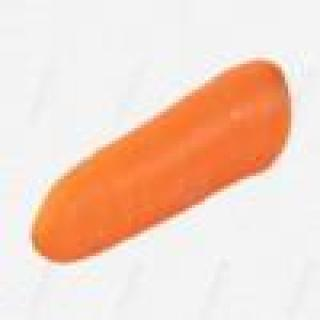Wortel: (5, 52, 312, 273)
